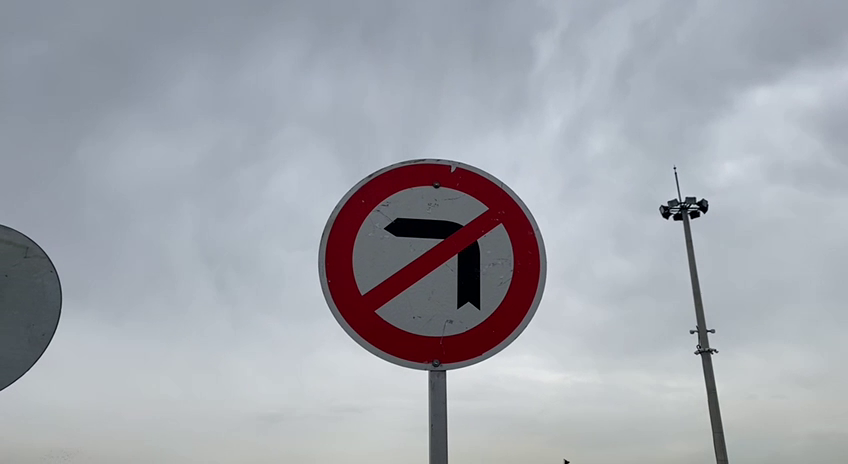noTurnLeft: (310, 152, 551, 375)
